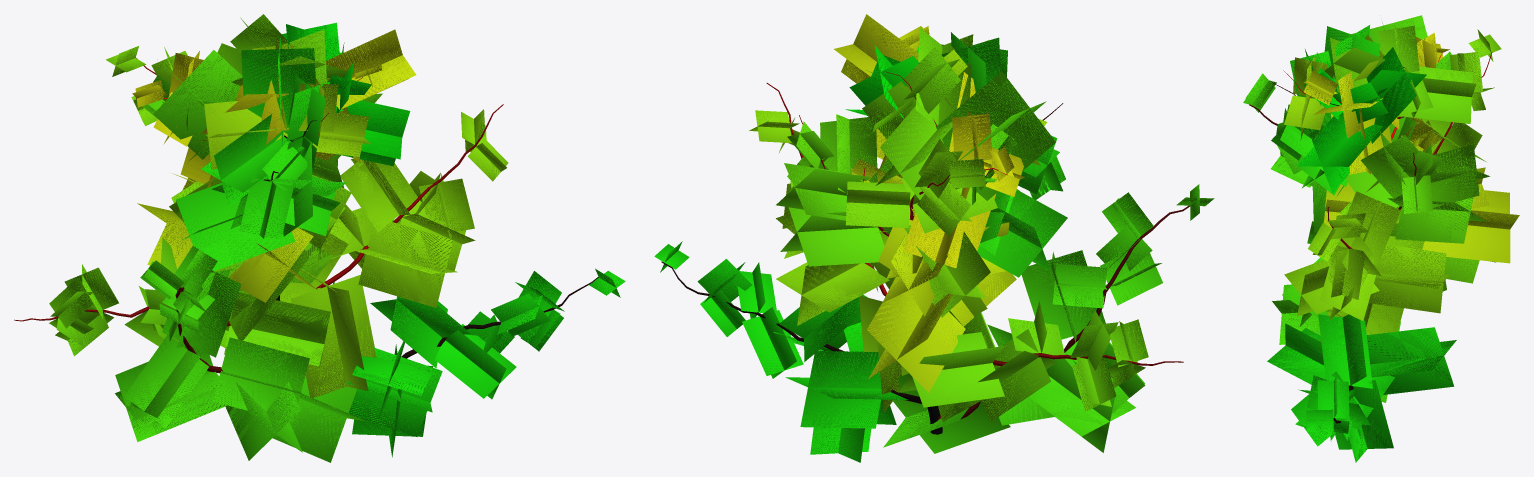
File: Type_1_Tree_8.fbx
The picture shows the model from 3 angles, left to right: view 1: azimuth 30°, elevation 25°; view 2: azimuth 150°, elevation 25°; view 3: azimuth 270°, elevation 25°; orthographic projection. The views are drawn at different scales.
Visible parts, largest first — view 1: Leaf, Trunk; view 2: Leaf, Trunk; view 3: Leaf, Trunk.
Part boxes in pixels (x1,y1,x2,y2): Leaf: (49,14,625,462); Trunk: (14,39,598,373); Leaf: (654,14,1214,462); Trunk: (661,71,1189,434); Leaf: (1243,15,1519,462); Trunk: (1249,52,1492,423).
Bounding box in the file's own units: 4921 × 3744 × 2445.
